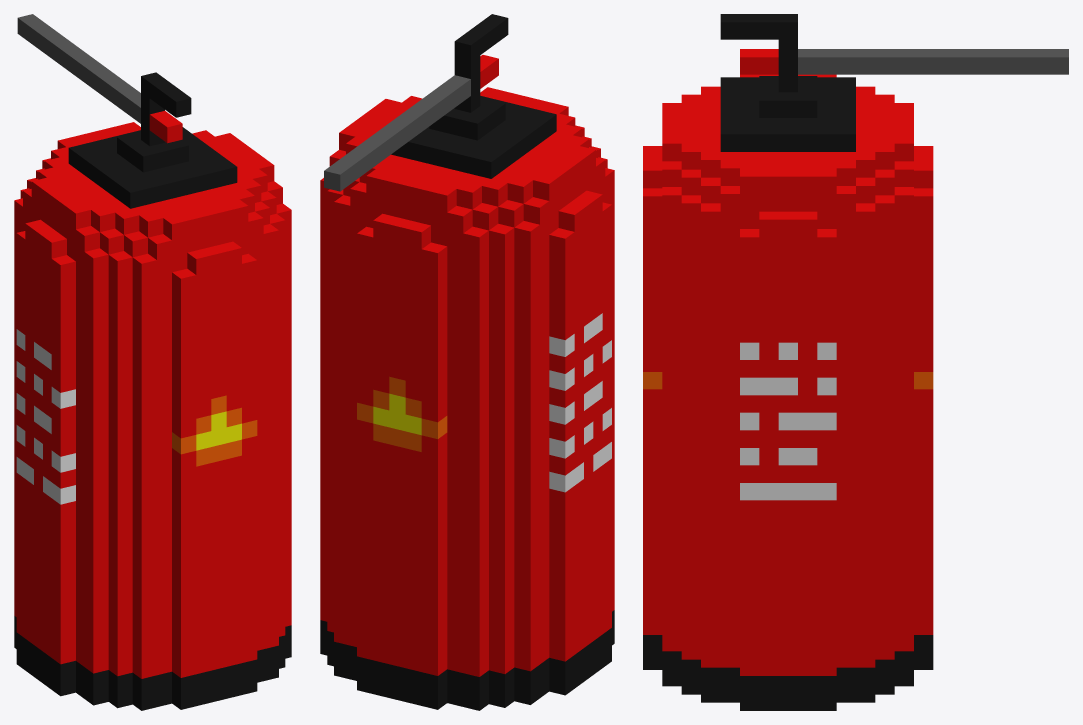
The model's file is fire extinguisher.obj.
The picture shows the model from 3 angles, left to right: view 1: azimuth 30°, elevation 25°; view 2: azimuth 150°, elevation 25°; view 3: azimuth 270°, elevation 25°; orthographic projection. The views are drawn at different scales.
Size of the model in its own units: 1.5 by 3.6 by 2.2.
